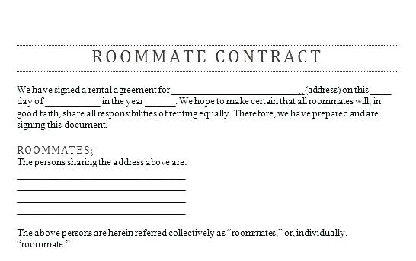textline: (15, 168, 189, 182), (15, 181, 188, 195), (171, 83, 301, 99), (14, 207, 190, 218), (14, 195, 189, 206), (45, 96, 102, 109), (144, 97, 176, 109), (370, 85, 393, 98)
